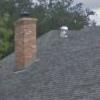Chimney: (10, 7, 46, 74)
